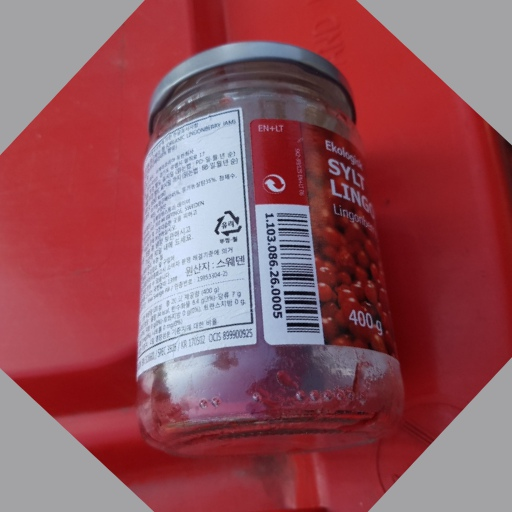Glass_5: (130, 35, 401, 456)
